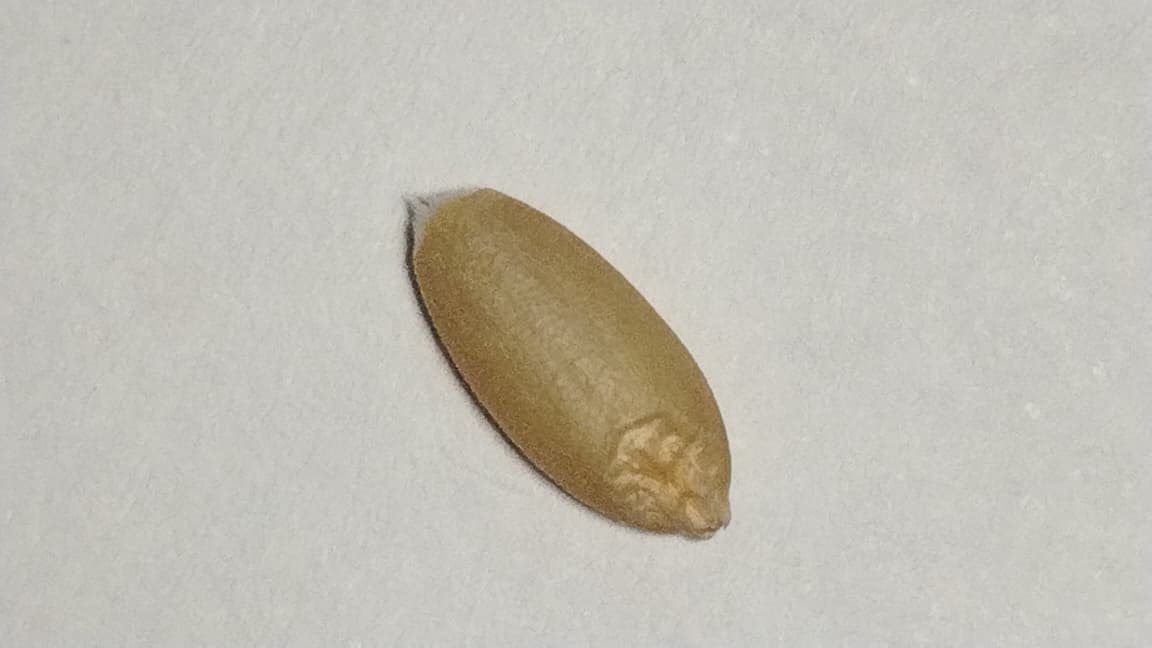healthy: (408, 188, 730, 535)
